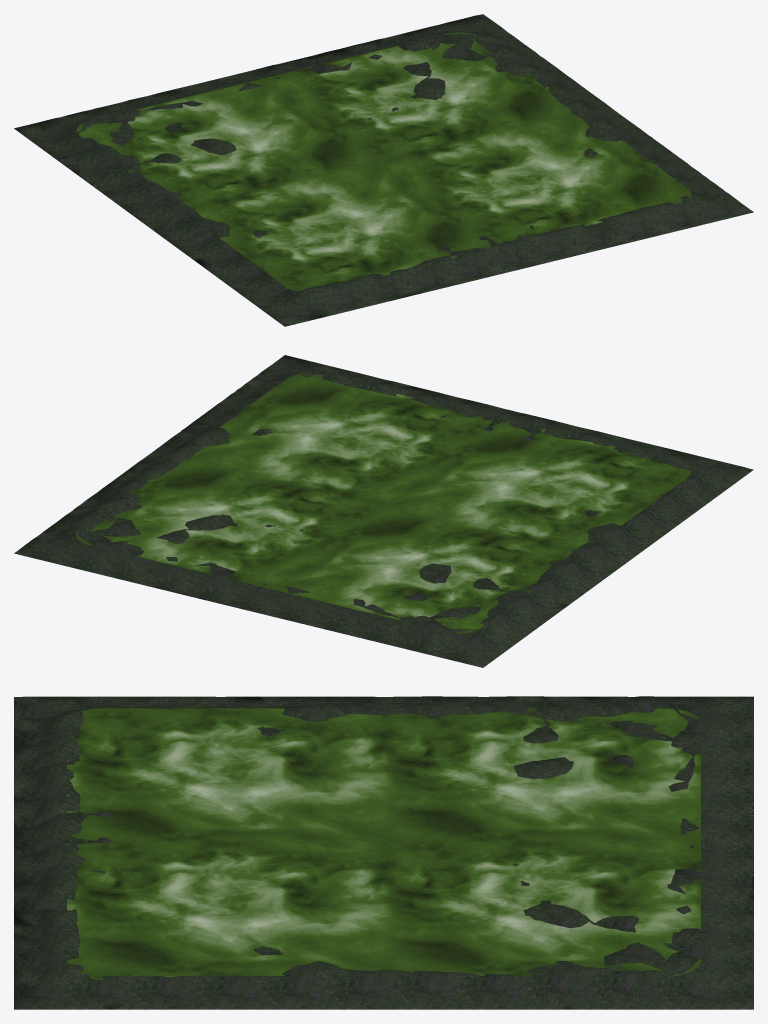
Rendered from Floor.glb.
The picture shows the model from 3 angles, top to bottom: view 1: azimuth 30°, elevation 25°; view 2: azimuth 150°, elevation 25°; view 3: azimuth 270°, elevation 25°; orthographic projection. The views are drawn at different scales.
Visible parts, largest first — view 1: Fog_Layer_Low_02, Floor; view 2: Fog_Layer_Low_02, Floor; view 3: Fog_Layer_Low_02, Floor.
Part boxes in pixels (x1=…): Fog_Layer_Low_02: x1=76, y1=32, x2=691, y2=291; Floor: x1=14, y1=14, x2=753, y2=326; Fog_Layer_Low_02: x1=76, y1=373, x2=691, y2=633; Floor: x1=14, y1=355, x2=753, y2=667; Fog_Layer_Low_02: x1=67, y1=708, x2=700, y2=975; Floor: x1=14, y1=696, x2=753, y2=1009.
Size of what is drawn, in the model's own units: 64 by 1.5 by 64.
Materials: 2 (2 with a texture image).
